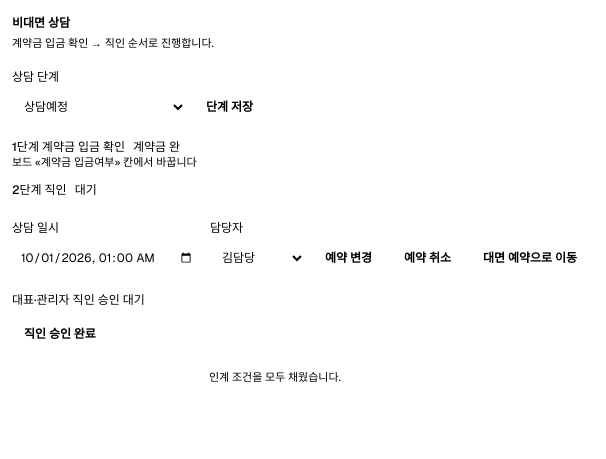
Test case: ConsultationPanel › seal 응답 유실 시 입력을 잠그고 동일 요청 전체로만 다시 확인한다
The width and height of the screenshot is (606, 459).
Click the button "직인 승인 완료": (60, 334) left=12, top=316, right=108, bottom=352
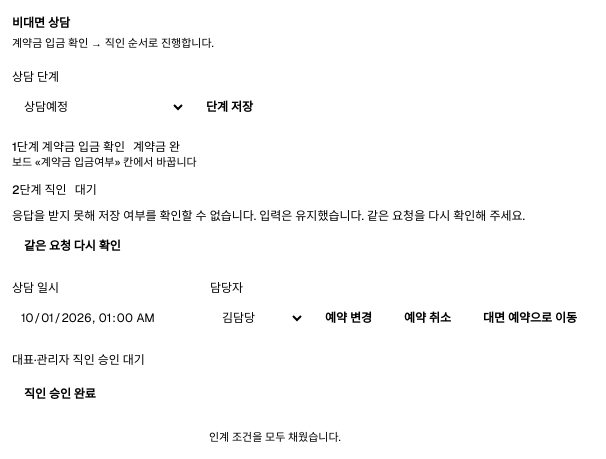
Now the text "저장 여부를 확인할 수 없습니다" is shown, box left=12, top=208, right=525, bottom=224
Now the field named "meetingAt" is disabled, box left=12, top=300, right=202, bottom=336
Now the dropdown named "assigneeId" is disabled, box left=210, top=300, right=305, bottom=336
Submit the form, box left=12, top=280, right=589, bottom=336
Click the button "같은 요청 다시 확인": (72, 246) left=12, top=228, right=133, bottom=264
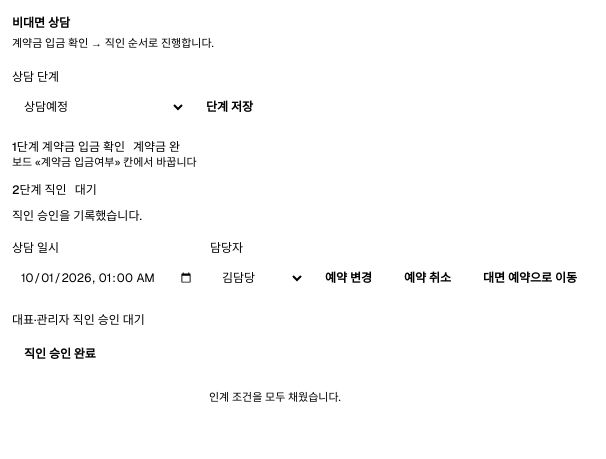
Now the text "저장 여부를 확인할 수 없습니다" is gone
Now the field named "meetingAt" is enabled, box left=12, top=260, right=202, bottom=296
